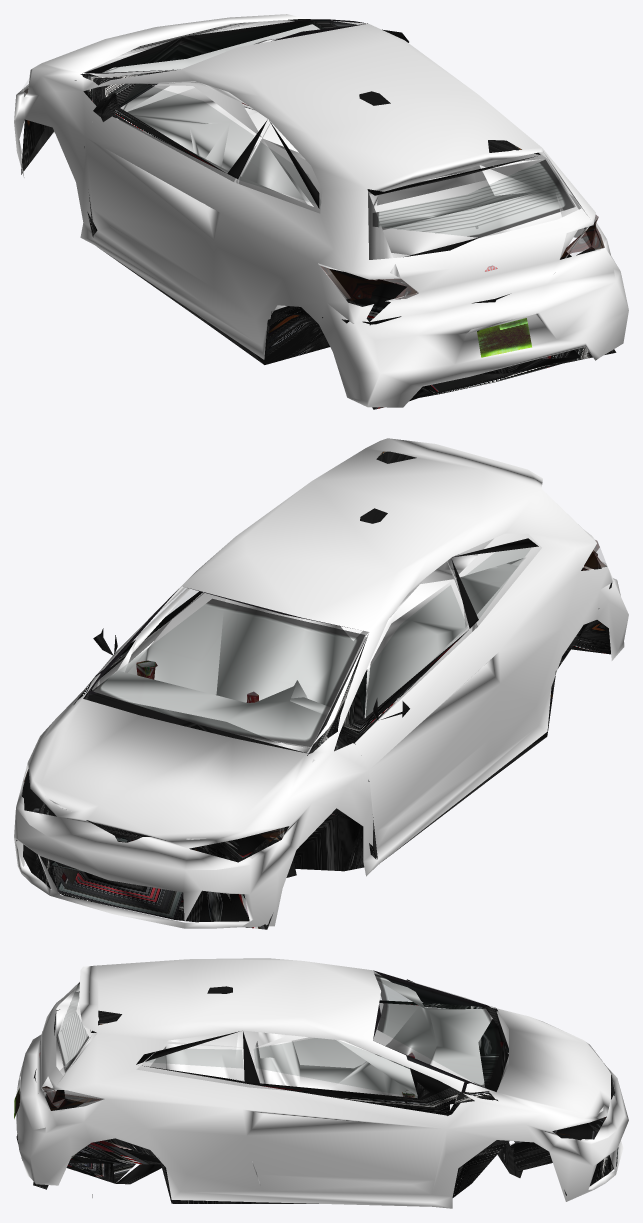
File: blista-lod.glb
3 renders of one model, top to bottom at view 1: azimuth 30°, elevation 25°; view 2: azimuth 150°, elevation 25°; view 3: azimuth 270°, elevation 25°, orthographic. The views are drawn at different scales.
Size of the model in its own units: 1.81 by 1.21 by 4.05.
11 materials, 10 textured.
